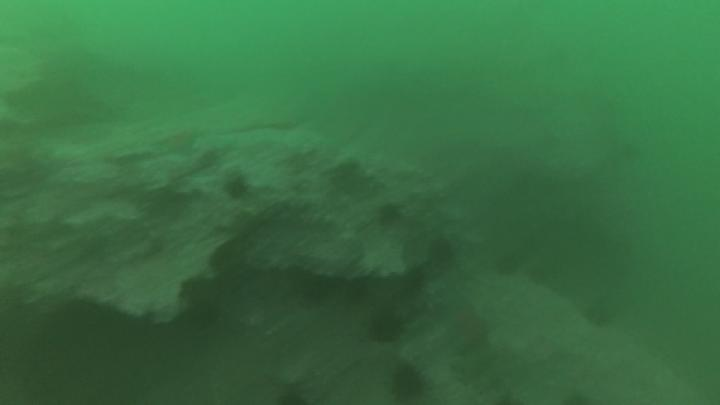echinus: (387, 362, 427, 405), (366, 309, 408, 343), (425, 236, 458, 269), (343, 275, 374, 309), (222, 175, 253, 205), (376, 200, 403, 230), (278, 390, 311, 405)
